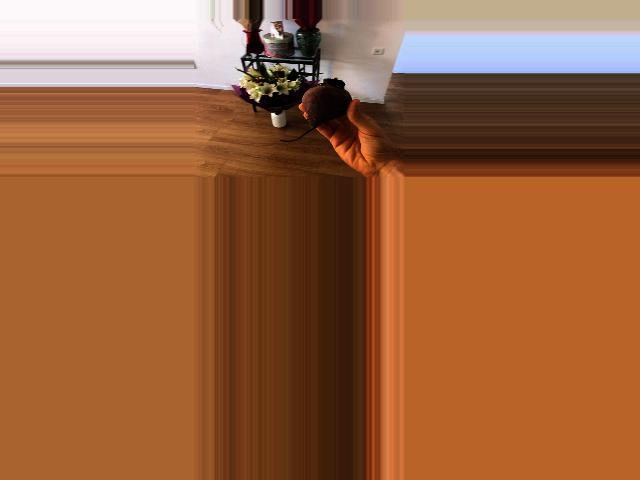beet: (278, 78, 351, 141)
